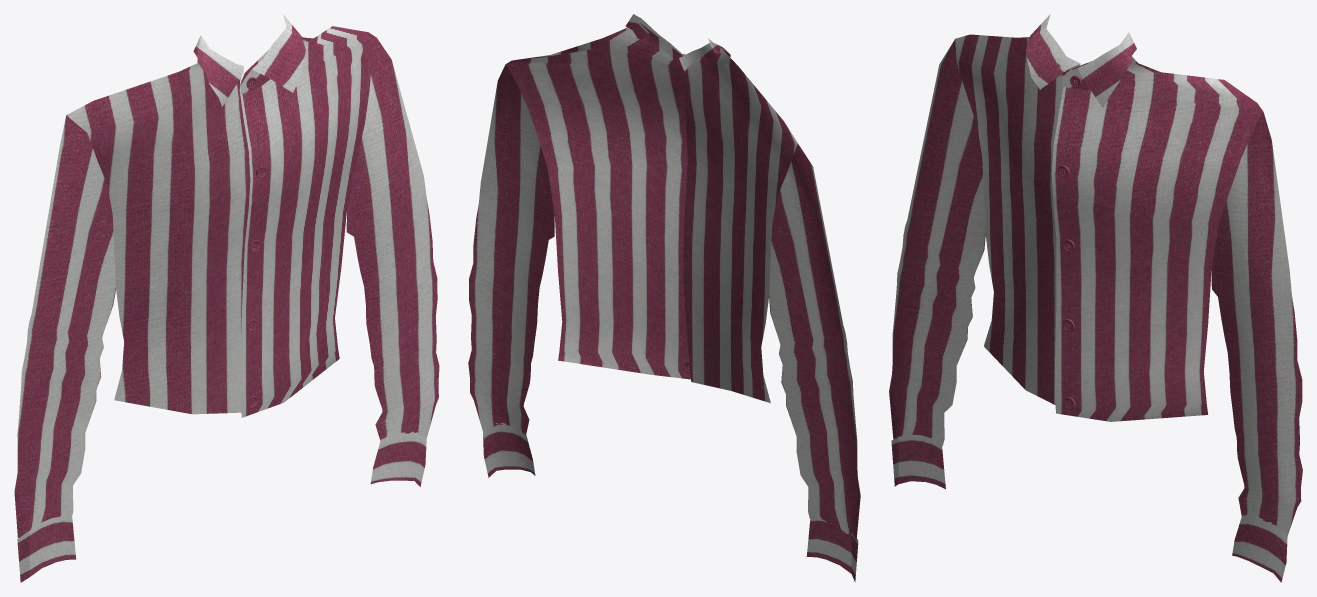
File: ManShirtLongSleevesRedtextre.glb
The picture shows the model from 3 angles, left to right: view 1: azimuth 30°, elevation 25°; view 2: azimuth 150°, elevation 25°; view 3: azimuth 330°, elevation 25°; orthographic projection. The views are drawn at different scales.
Parts seen in each view (by area): view 1: Plane.002; view 2: Plane.002; view 3: Plane.002.
Part boxes in pixels (x1,y1,x2,y2): Plane.002: (14,14,439,582); Plane.002: (468,14,860,582); Plane.002: (889,14,1302,582).
Size of the model in its own units: 2.75 by 3.28 by 0.5108.
1 material, 1 textured.
